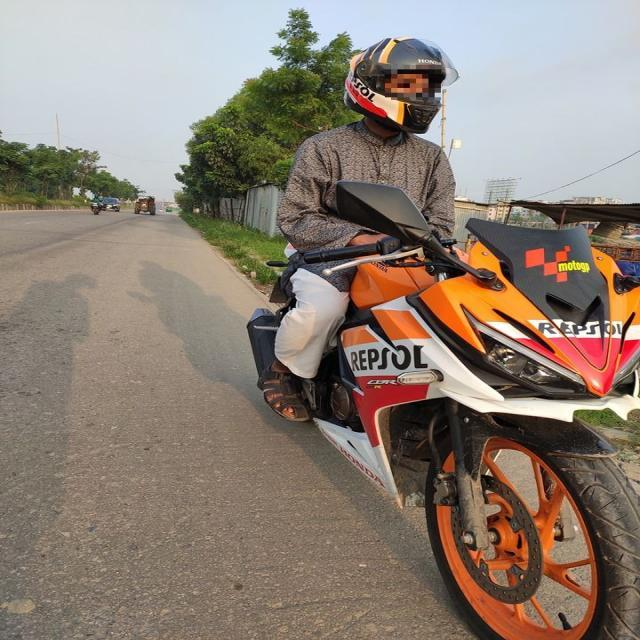Motorbike: (224, 156, 640, 639)
